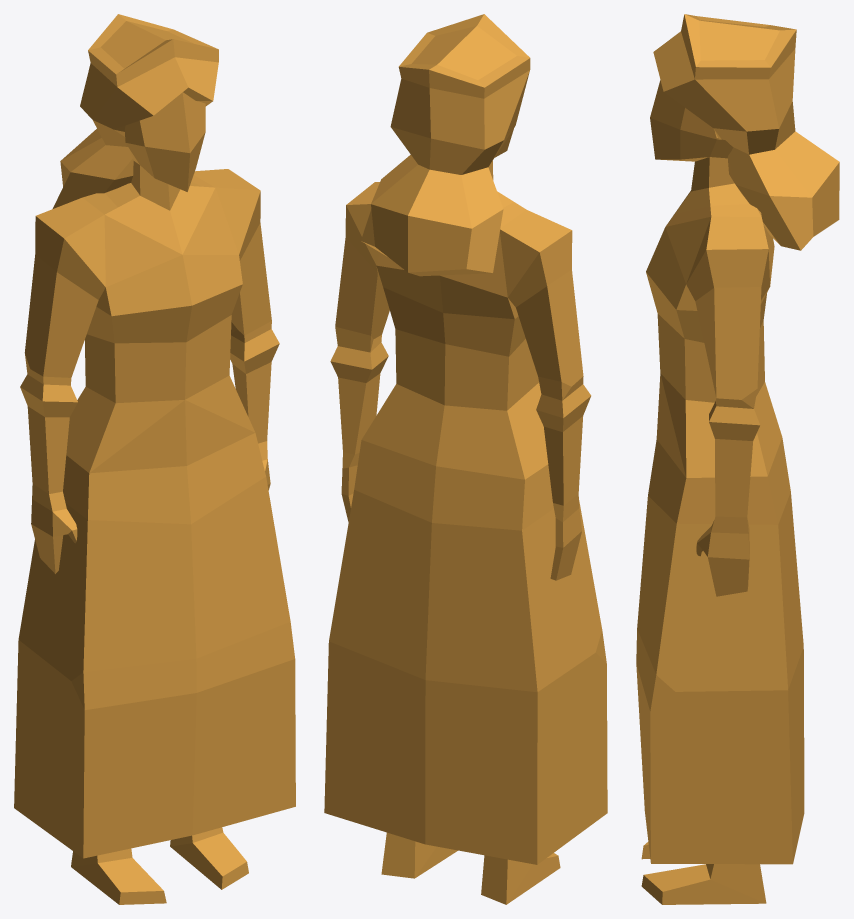
File: woman-princess.fbx
3 views of the same model, side by side, from view 1: azimuth 30°, elevation 25°; view 2: azimuth 150°, elevation 25°; view 3: azimuth 270°, elevation 25° (orthographic).
Parts seen in each view (by area): view 1: woman-princess; view 2: woman-princess; view 3: woman-princess.
Part boxes in pixels (box(x1,y1,x2,y2)): woman-princess: box(14, 14, 295, 904); woman-princess: box(324, 14, 607, 904); woman-princess: box(636, 14, 839, 904).
Bounding box in the file's own units: 0.5494 × 1.86 × 0.4003.
